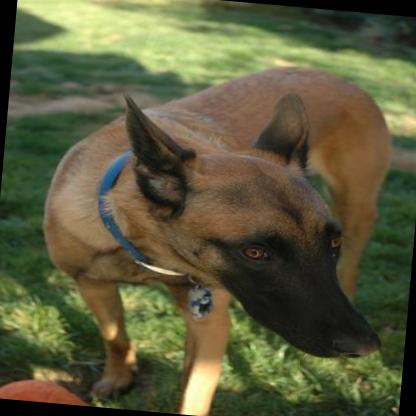malinois: (25, 45, 406, 416)
